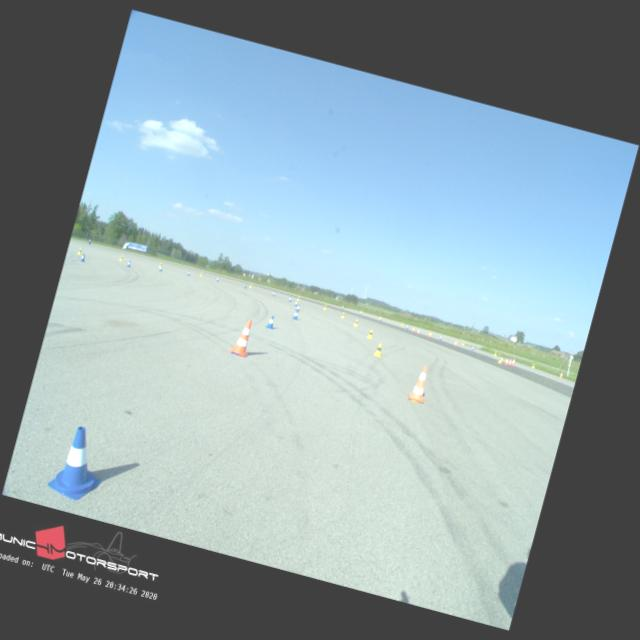blue_cone: (45, 422, 113, 504), (265, 314, 276, 328), (291, 309, 299, 320), (79, 252, 86, 262), (125, 260, 132, 267), (294, 304, 300, 312), (214, 276, 220, 282), (293, 299, 298, 306), (186, 270, 191, 276), (158, 266, 163, 272), (470, 345, 475, 351), (438, 335, 443, 341), (288, 296, 292, 302), (272, 290, 276, 296), (244, 284, 248, 288)
large_orange_cone: (229, 316, 257, 358), (407, 363, 432, 403)
orange_cone: (510, 358, 515, 366), (558, 372, 564, 378), (452, 340, 458, 346), (508, 358, 512, 365), (504, 358, 508, 364)
yellow_cone: (372, 342, 383, 357), (366, 329, 374, 339), (76, 247, 82, 255), (353, 318, 359, 326), (497, 356, 502, 364), (198, 270, 204, 276), (322, 304, 328, 310), (492, 350, 498, 356), (119, 254, 124, 261), (340, 311, 345, 318), (460, 340, 465, 346), (158, 261, 162, 267), (296, 296, 300, 302), (531, 362, 535, 368), (248, 283, 252, 288)
